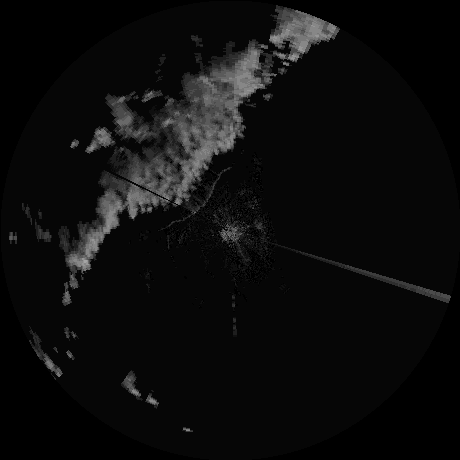frontgust: (169, 164, 237, 224)
